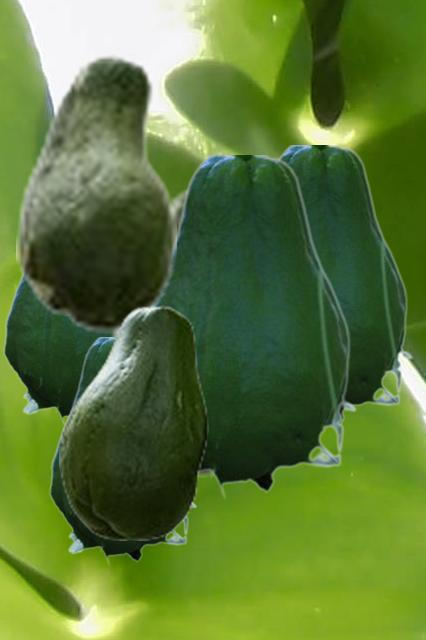sayote: (159, 155, 356, 498), (16, 54, 175, 333), (279, 145, 412, 422), (59, 305, 207, 539), (49, 337, 196, 565), (105, 185, 209, 477), (3, 276, 109, 424)
